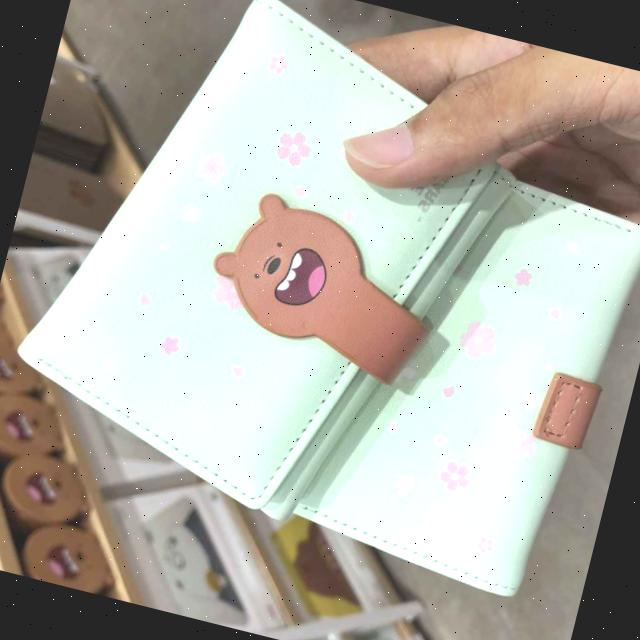Handbag: (0, 0, 541, 548)
